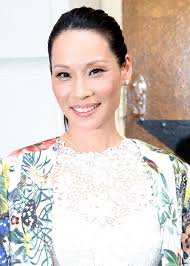asian_female: (38, 13, 139, 138)
